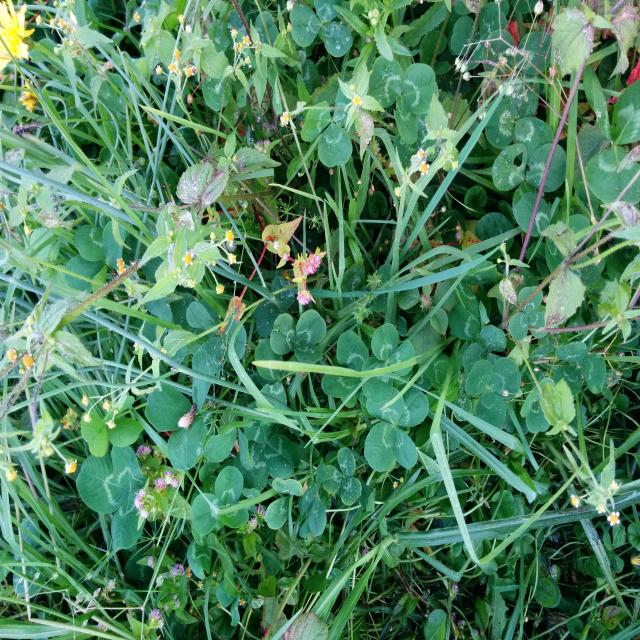Four Leaf Clover: (364, 385, 429, 472)
